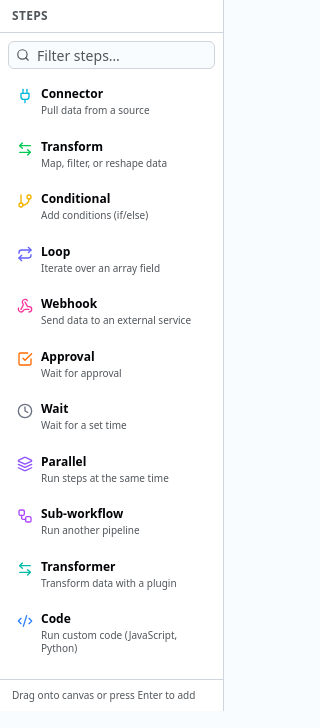
it: NodePalette › search/filter › shows 'No matching steps' when nothing matches
This screenshot has width=320, height=728.
Type "zzznomatch" into the field named "filter step types" at x=112, y=55, box [8,41,215,69]
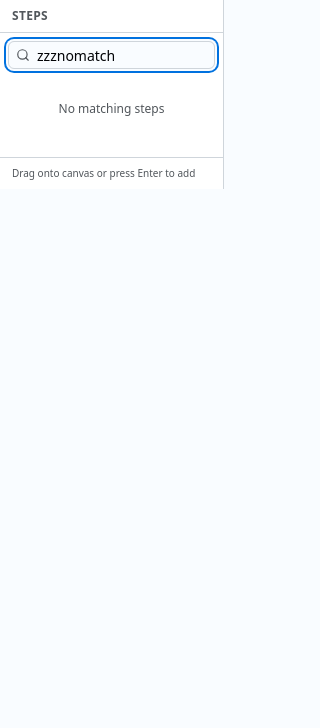
Now the list item "No matching steps" is shown, box [58,100,164,117]
